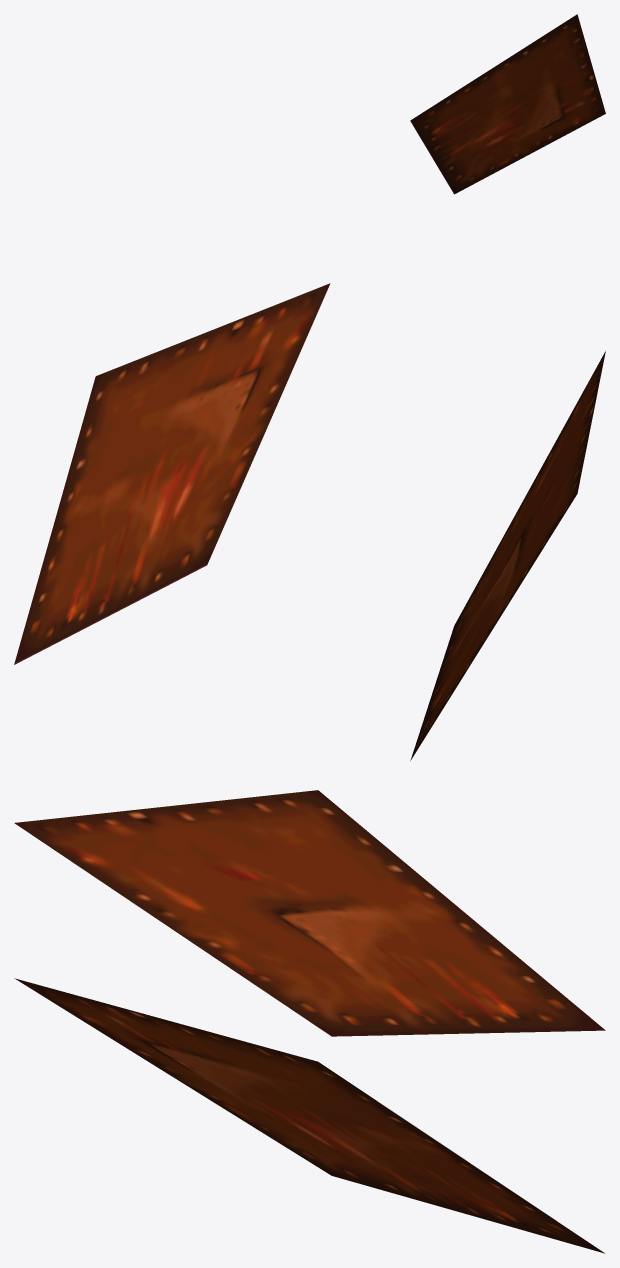
The model's file is Schiff_Heck2_1260.glb.
3 renders of one model, top to bottom at view 1: azimuth 30°, elevation 25°; view 2: azimuth 150°, elevation 25°; view 3: azimuth 270°, elevation 25°, orthographic. The views are drawn at different scales.
Parts seen in each view (by area): view 1: pPlaneShape45; view 2: pPlaneShape45, pPlaneShape24; view 3: pPlaneShape24, pPlaneShape45.
Part boxes in pixels (x1,y1,x2,y2): pPlaneShape45: [410, 14, 605, 194]; pPlaneShape45: [14, 283, 330, 664]; pPlaneShape24: [410, 351, 605, 760]; pPlaneShape24: [14, 790, 605, 1036]; pPlaneShape45: [14, 978, 605, 1253].
Size of the model in its own units: 1.72 by 0.7119 by 1.58.
Materials: 2 (2 with a texture image).
